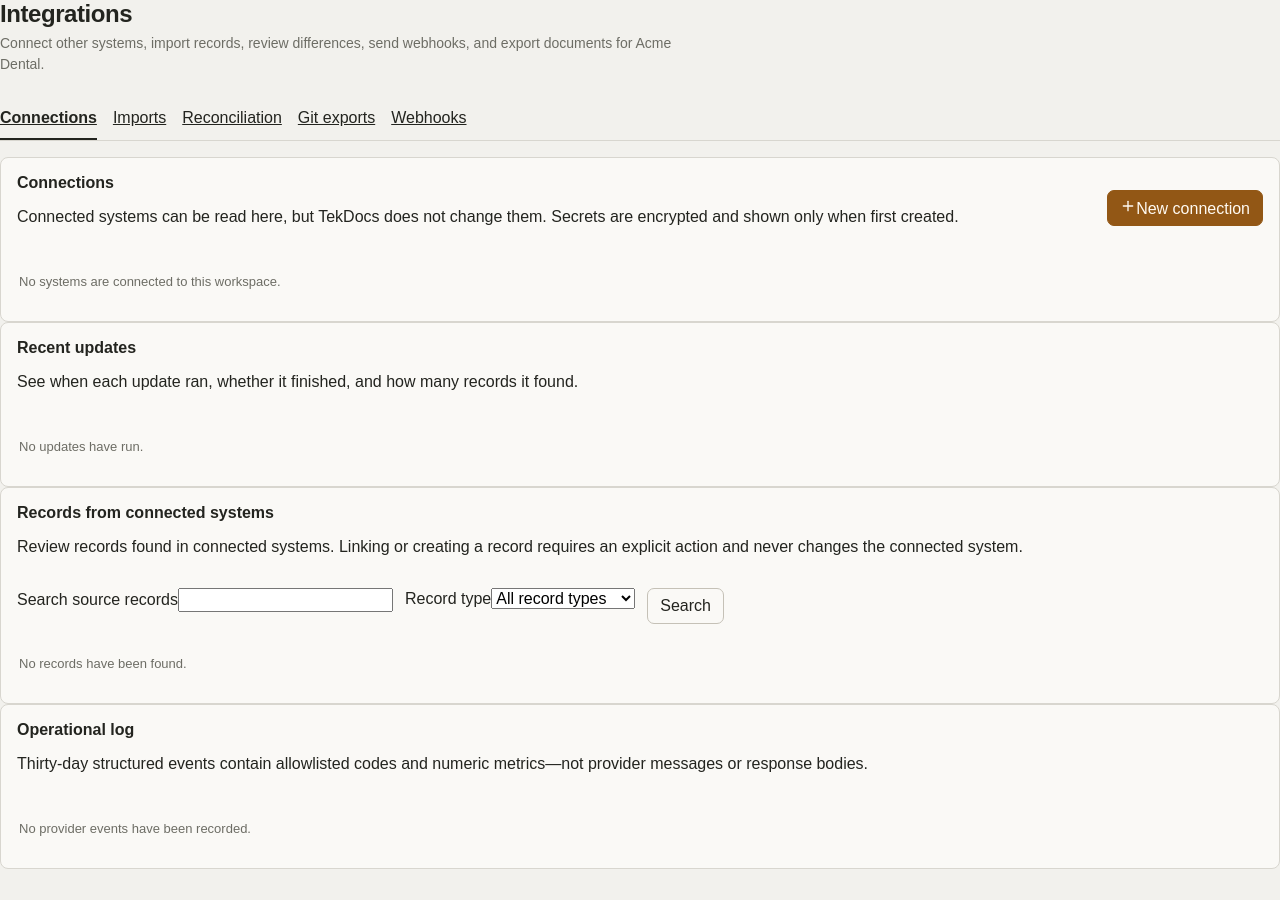
Scenario: Integrations › creates a repository-only snapshot and preserves the choice after a failed attempt
The image size is (1280, 900).
Click the link "Git exports". click: (336, 118)
box: [298, 109, 375, 126]
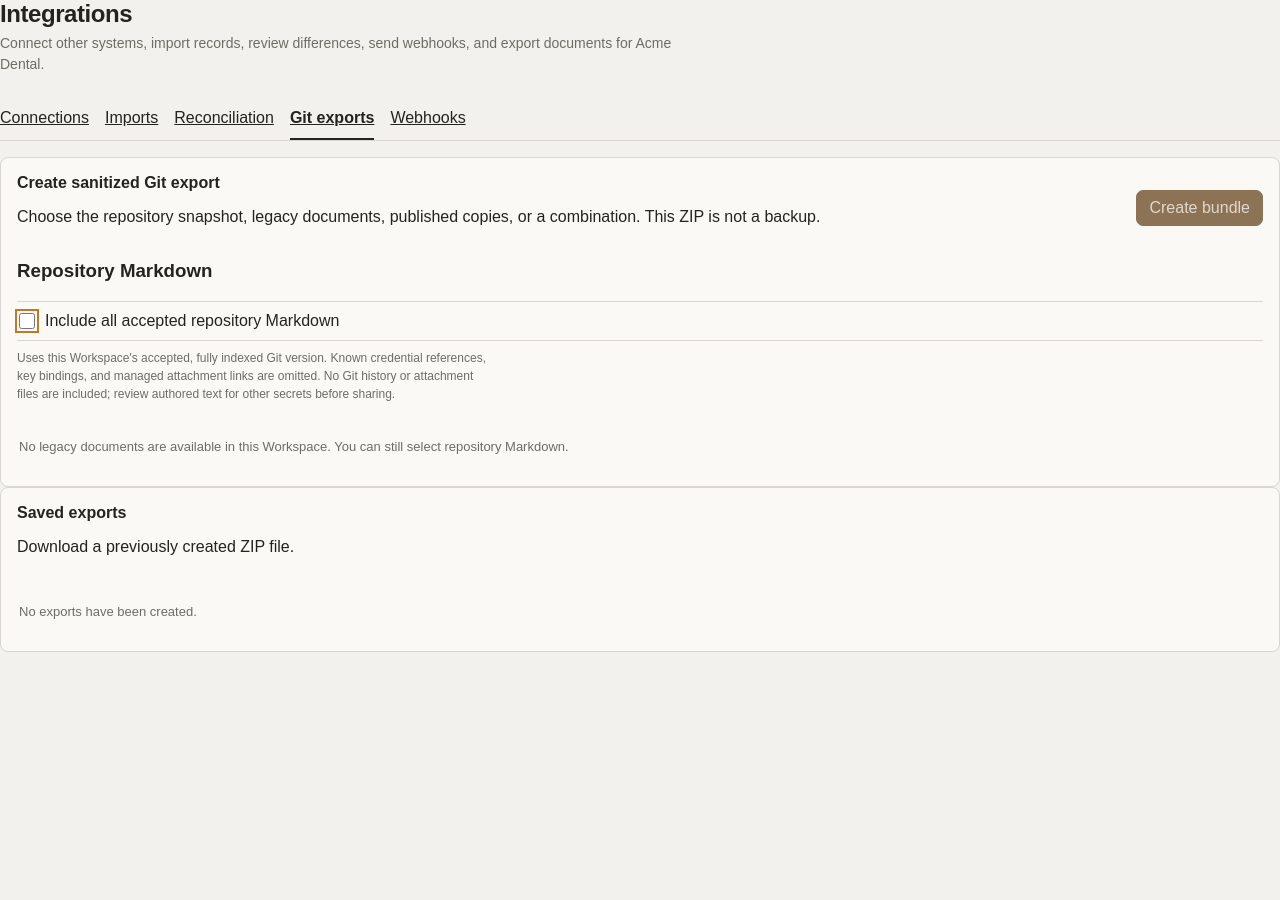
Expected: the text "not a backup" is shown, [17, 208, 820, 225]
Expected: the text "No legacy documents are available" is shown, [19, 439, 569, 454]
Expected: the button "Create bundle" is disabled, [1136, 190, 1263, 226]
Type keys " "
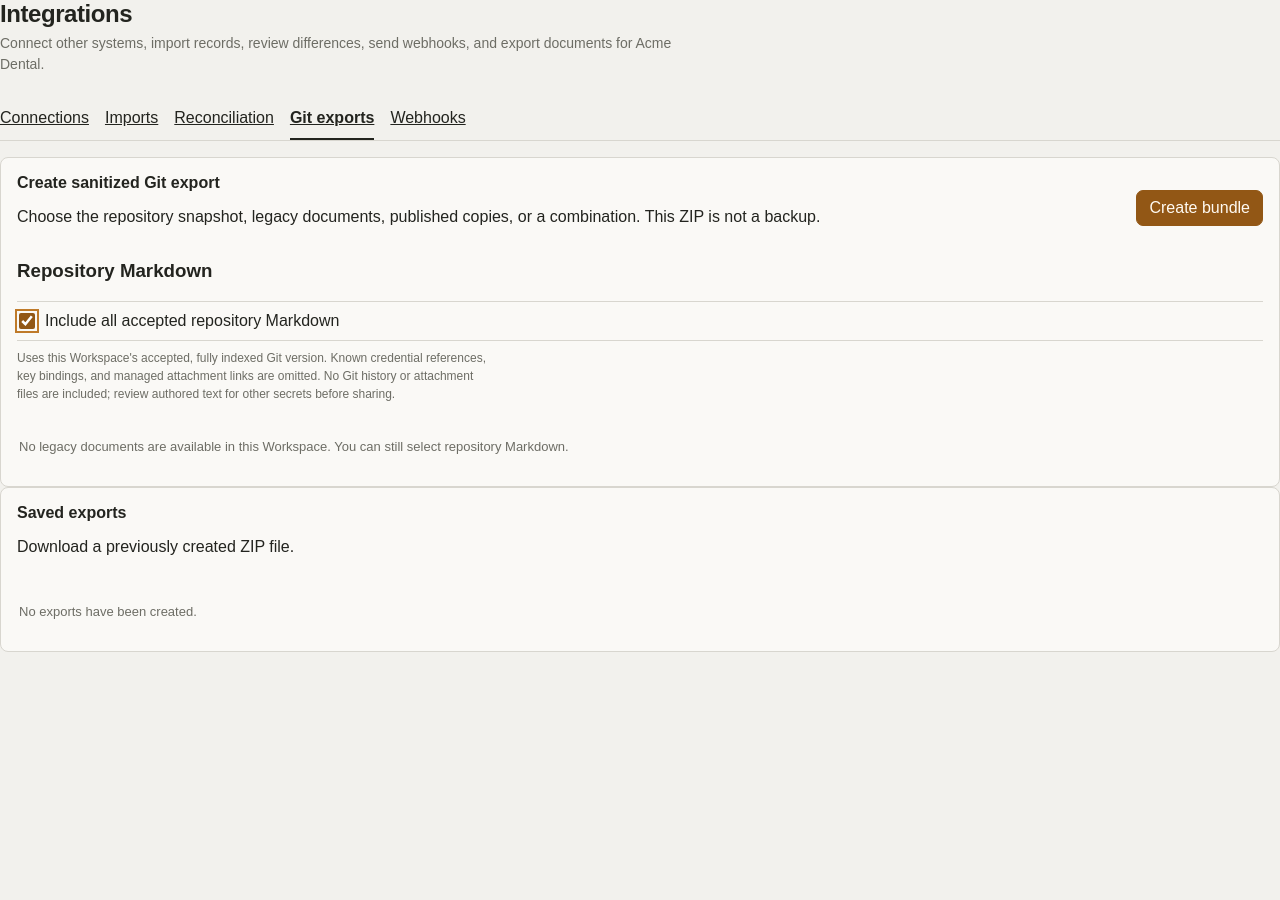
Expected: the button "Create bundle" is enabled, [1136, 190, 1263, 226]
Click the link "Imports". click: (132, 118)
box: [105, 109, 158, 126]
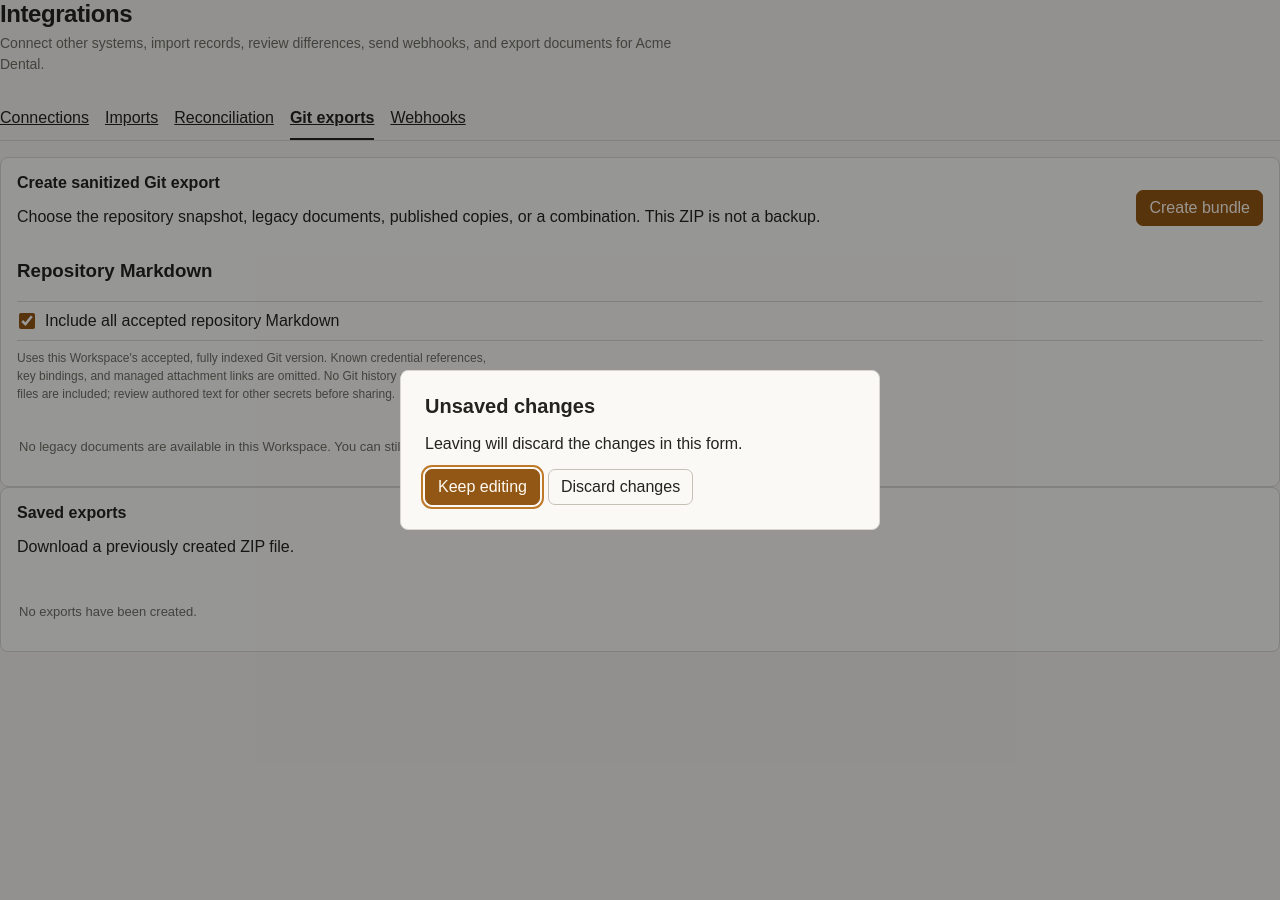
Click the button "Keep editing". click: (482, 487)
box: [425, 469, 540, 505]
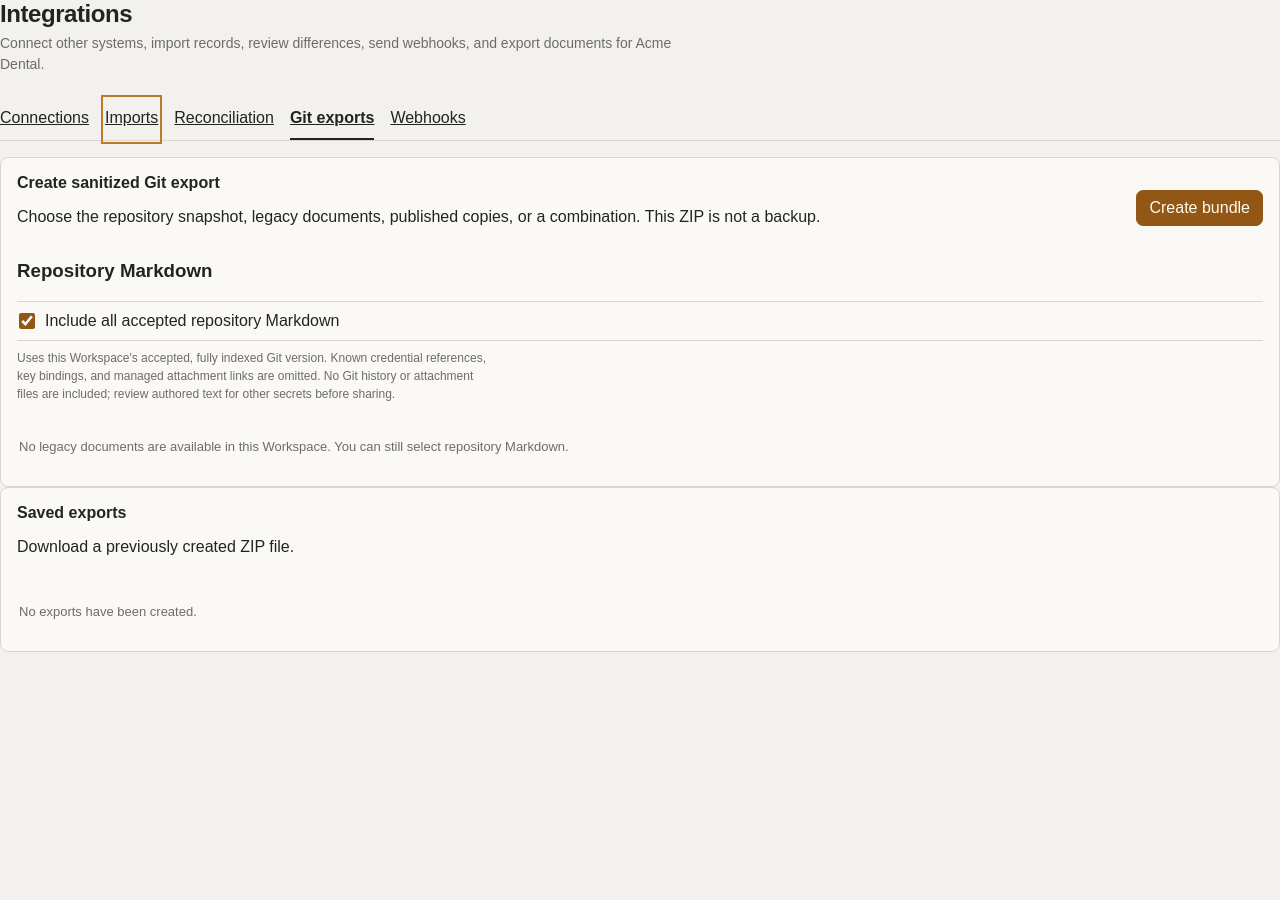
Expected: the checkbox labelled "Include all accepted repository Markdown" is checked, [19, 313, 35, 329]
Click the button "Create bundle". click: (1200, 208)
box: [1136, 190, 1263, 226]
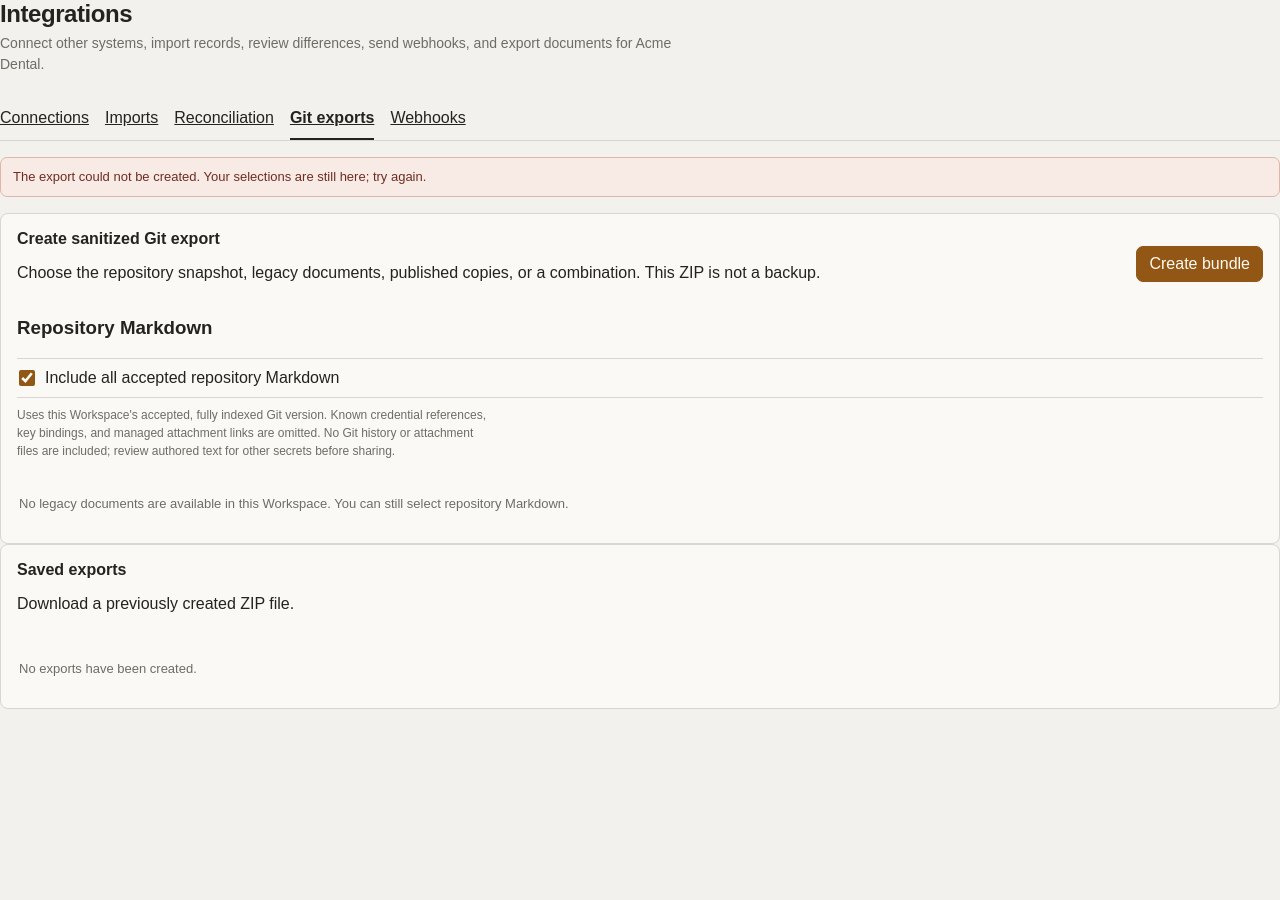
Expected: the checkbox labelled "Include all accepted repository Markdown" is checked, [19, 370, 35, 386]
Expected: the message shows "The export could not be created", [13, 169, 426, 184]
Click the button "Create bundle". click: (1200, 264)
box: [1136, 246, 1263, 282]
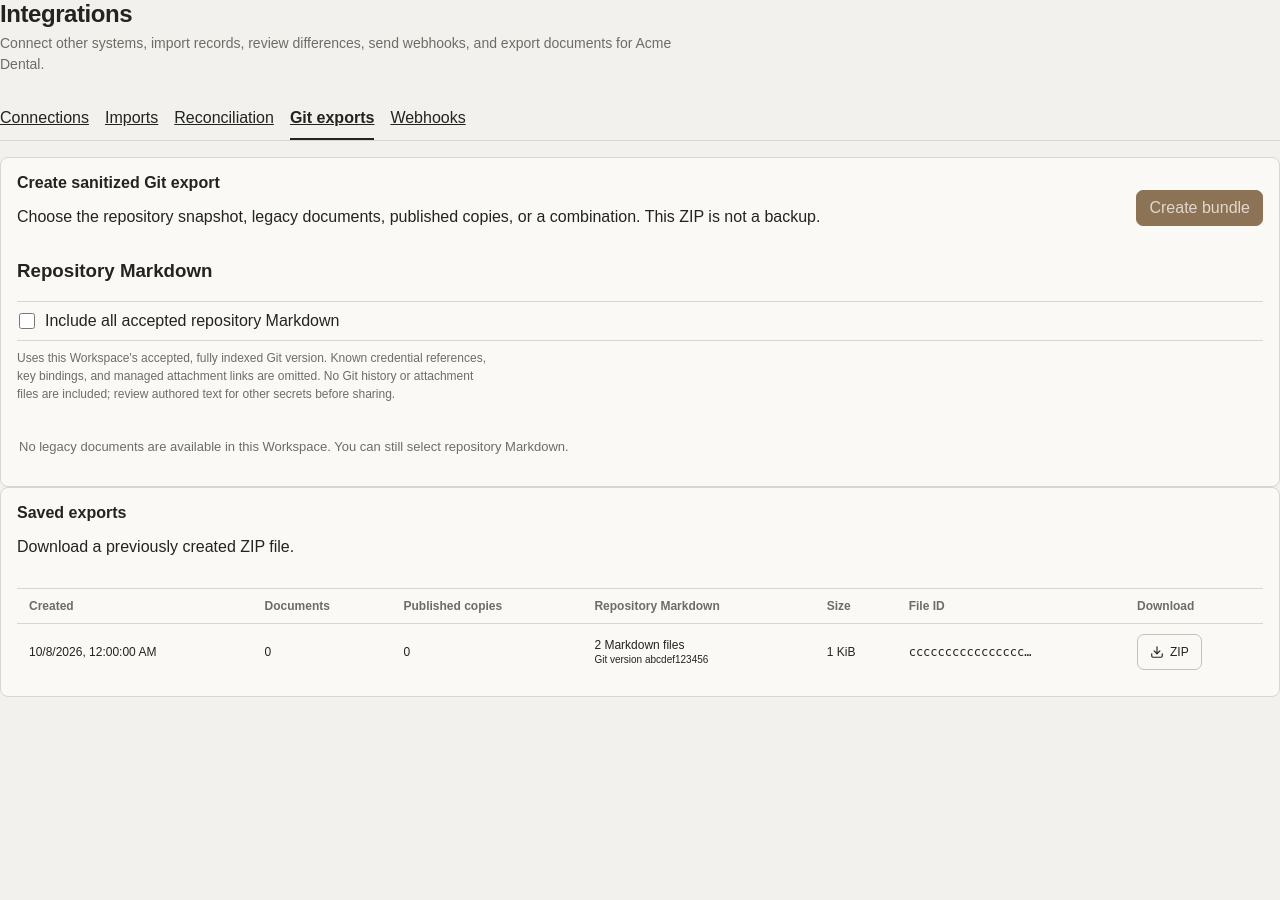
Expected: the text "2 Markdown files" is shown, [594, 638, 684, 652]
Expected: the text "Git version abcdef123456" is shown, [594, 654, 708, 665]
Expected: the checkbox labelled "Include all accepted repository Markdown" is not checked, [19, 313, 35, 329]
